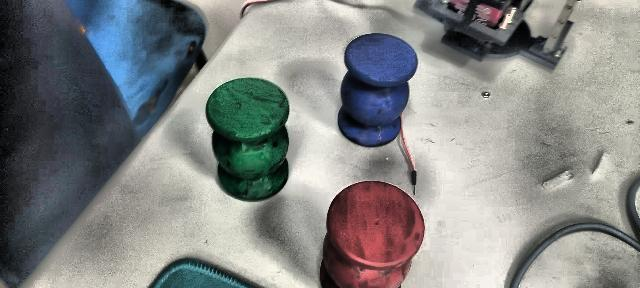blue: (337, 33, 417, 147)
green: (208, 77, 292, 199)
red: (316, 179, 426, 288)
